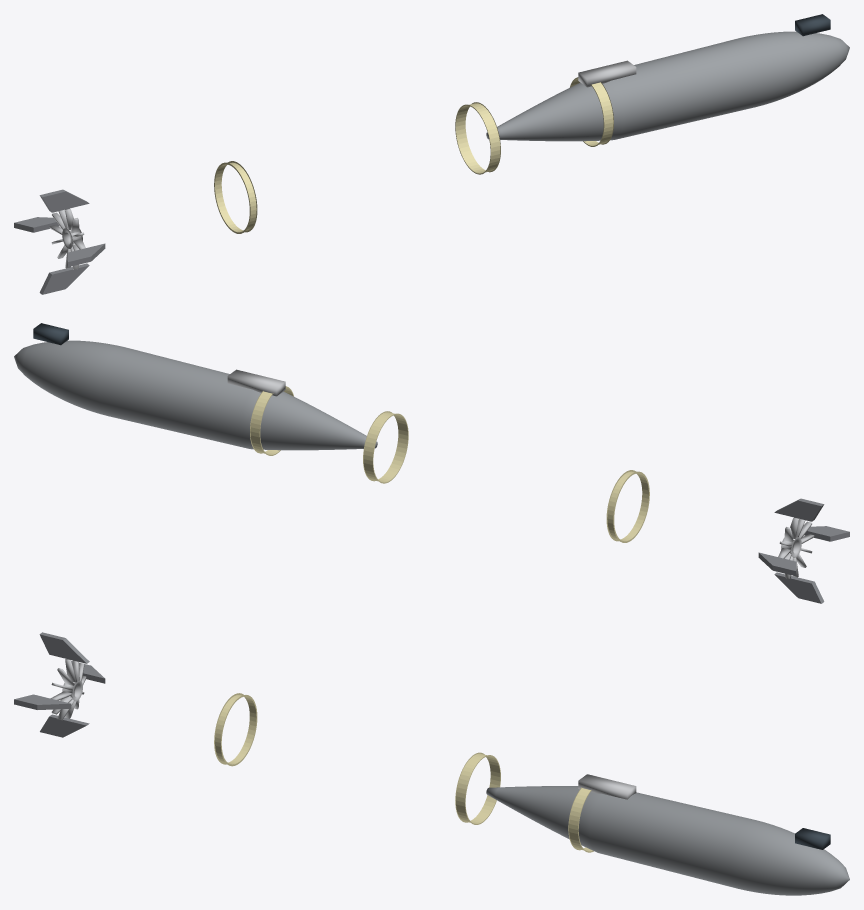
Rendered from CN_TORP_Yu4_LOD0.fbx.
3 renders of one model, top to bottom at view 1: azimuth 30°, elevation 25°; view 2: azimuth 150°, elevation 25°; view 3: azimuth 330°, elevation 25°, orthographic.
Visible parts, largest first — view 1: WPN_CN_TORP_Yu4_LOD0_Body, WPN_CN_TORP_Yu4_LOD0_Marking, WPN_CN_TORP_Yu4_LOD0_Fins, WPN_CN_TORP_Yu4_LOD0_Propulsor, WPN_CN_TORP_Yu4_LOD0_Detail, WPN_CN_TORP_Yu4_LOD0_Seeker; view 2: WPN_CN_TORP_Yu4_LOD0_Body, WPN_CN_TORP_Yu4_LOD0_Marking, WPN_CN_TORP_Yu4_LOD0_Fins, WPN_CN_TORP_Yu4_LOD0_Propulsor, WPN_CN_TORP_Yu4_LOD0_Detail, WPN_CN_TORP_Yu4_LOD0_Seeker; view 3: WPN_CN_TORP_Yu4_LOD0_Body, WPN_CN_TORP_Yu4_LOD0_Marking, WPN_CN_TORP_Yu4_LOD0_Fins, WPN_CN_TORP_Yu4_LOD0_Propulsor, WPN_CN_TORP_Yu4_LOD0_Detail, WPN_CN_TORP_Yu4_LOD0_Seeker.
Part boxes in pixels (x1,y1,x2,y2): WPN_CN_TORP_Yu4_LOD0_Body: (486,31,849,141); WPN_CN_TORP_Yu4_LOD0_Marking: (214,77,613,233); WPN_CN_TORP_Yu4_LOD0_Fins: (14,189,105,294); WPN_CN_TORP_Yu4_LOD0_Propulsor: (49,208,85,269); WPN_CN_TORP_Yu4_LOD0_Detail: (578,60,636,87); WPN_CN_TORP_Yu4_LOD0_Seeker: (795,14,830,36); WPN_CN_TORP_Yu4_LOD0_Body: (14,340,377,450); WPN_CN_TORP_Yu4_LOD0_Marking: (250,386,649,542); WPN_CN_TORP_Yu4_LOD0_Fins: (758,498,849,603); WPN_CN_TORP_Yu4_LOD0_Propulsor: (778,517,814,578); WPN_CN_TORP_Yu4_LOD0_Detail: (227,369,285,396); WPN_CN_TORP_Yu4_LOD0_Seeker: (33,323,68,345); WPN_CN_TORP_Yu4_LOD0_Body: (486,786,849,895); WPN_CN_TORP_Yu4_LOD0_Marking: (214,693,593,852); WPN_CN_TORP_Yu4_LOD0_Fins: (14,632,105,737); WPN_CN_TORP_Yu4_LOD0_Propulsor: (50,659,86,720); WPN_CN_TORP_Yu4_LOD0_Detail: (578,774,636,799); WPN_CN_TORP_Yu4_LOD0_Seeker: (795,828,830,849).
Size of the model in its own units: 7.01 by 0.8082 by 0.8082.
